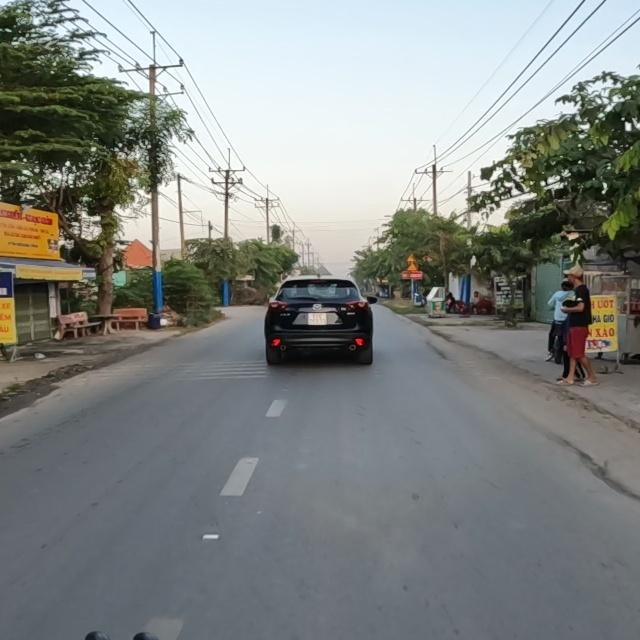license-plate: (306, 311, 329, 326)
